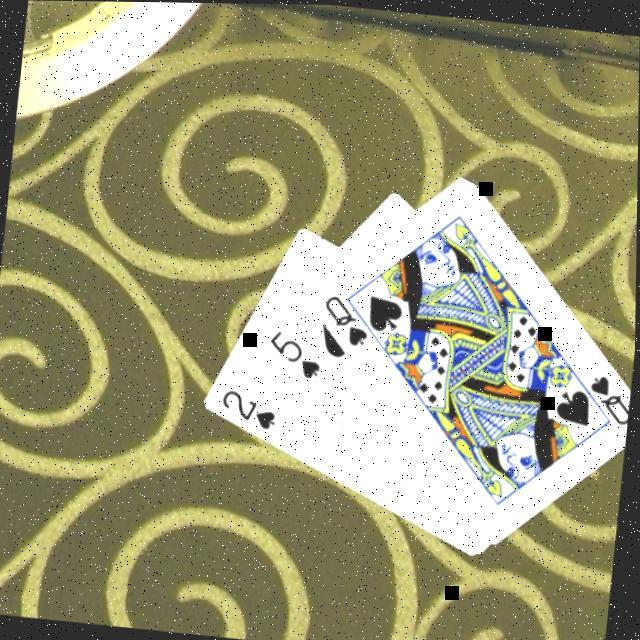2S: (217, 384, 283, 432)
5S: (264, 325, 328, 382)
QS: (318, 289, 376, 348), (583, 367, 633, 427)
